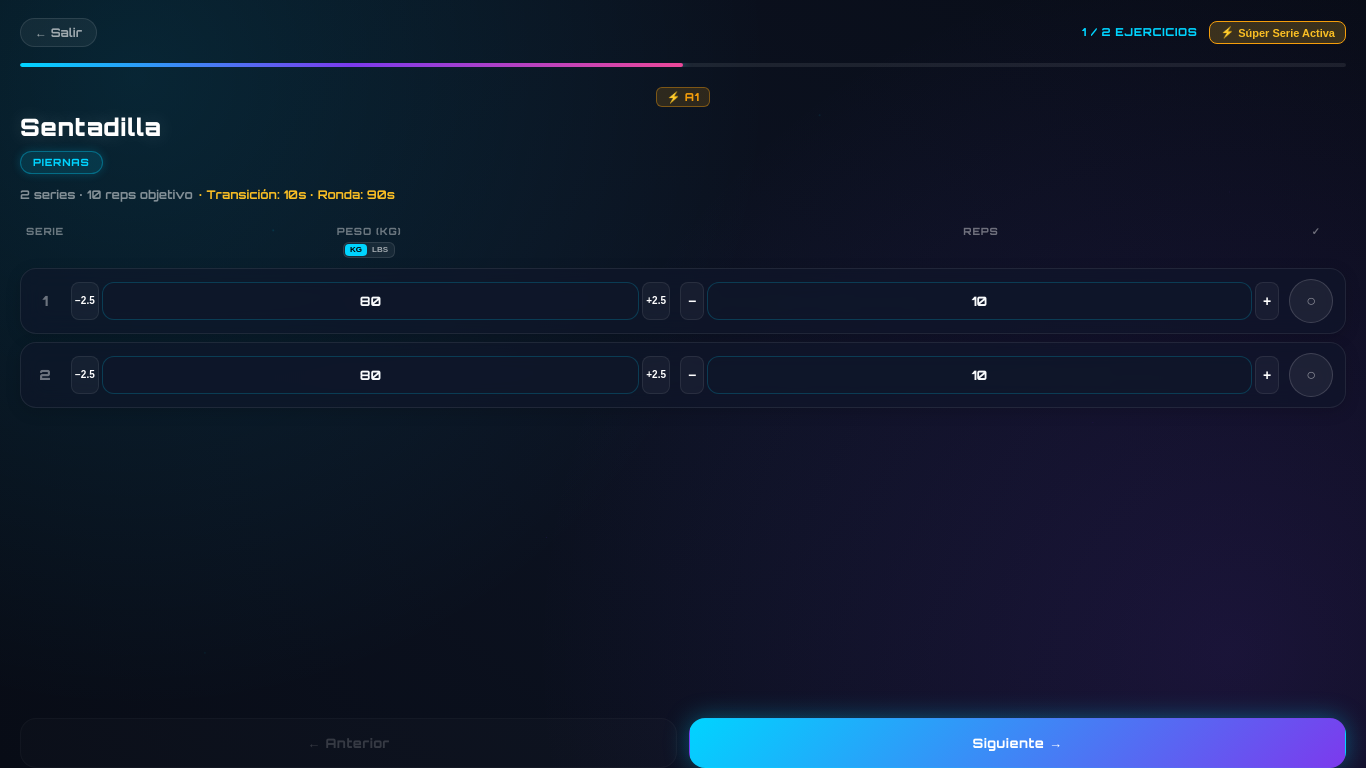
Test: ActiveSession Component › el descanso entre rondas de una Súper Serie muestra "Descanso de ronda" y usa el descanso de bloque
Click the button named "Marcar serie 1 como completada" at [1311, 301], box [1289,279,1333,323]
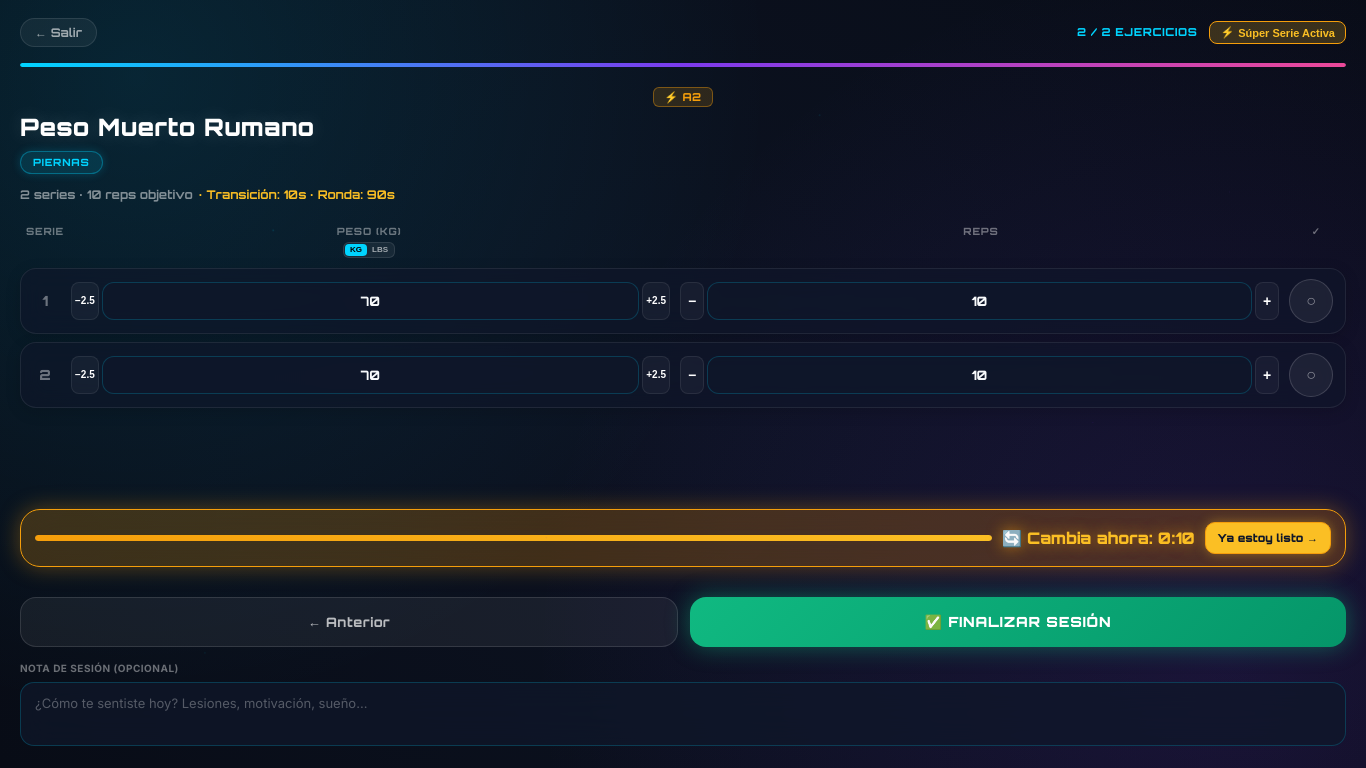
Check: the text "🔄 Cambia ahora: 0:10" is shown, box [1002,526,1195,550]
Click the button named "Marcar serie 1 como completada" at [1311, 301], box [1289,279,1333,323]
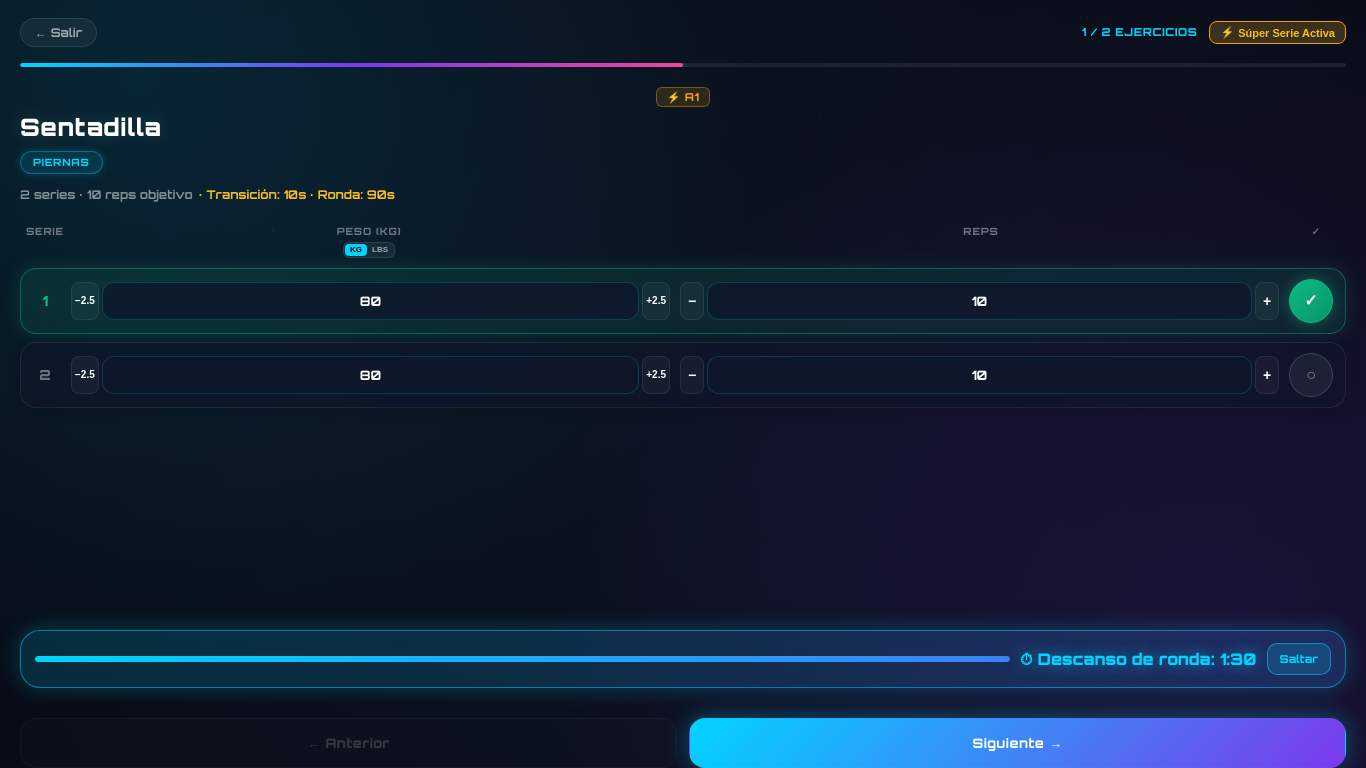
Check: the text "⏱ Descanso de ronda: 1:30" is shown, box [1020,647,1257,671]
Check: the text "Cambia ahora" is gone
Check: the button "Saltar" is shown, box [1267,643,1331,675]
